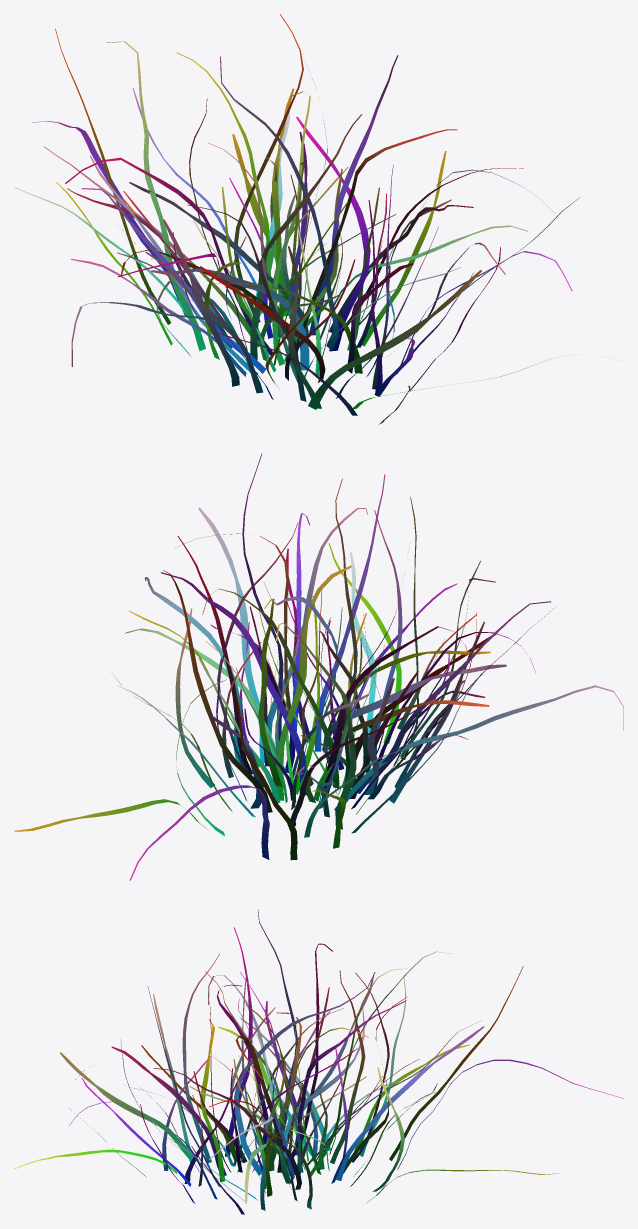
File: Wild_Grass_vlkhcbxia_High_vlkhcbxia_VarH_LOD0.fbx
The picture shows the model from 3 angles, top to bottom: view 1: azimuth 30°, elevation 25°; view 2: azimuth 150°, elevation 25°; view 3: azimuth 270°, elevation 25°; orthographic projection. The views are drawn at different scales.
Visible parts, largest first — view 1: _9pu1_VarH_LOD0; view 2: _9pu1_VarH_LOD0; view 3: _9pu1_VarH_LOD0.
Boxes of the visible parts, x1,y1,x2,y2 form: _9pu1_VarH_LOD0: (14, 14, 621, 424); _9pu1_VarH_LOD0: (14, 453, 623, 880); _9pu1_VarH_LOD0: (14, 909, 623, 1214).
Bounding box in the file's own units: 19.05 × 11.52 × 26.34.
